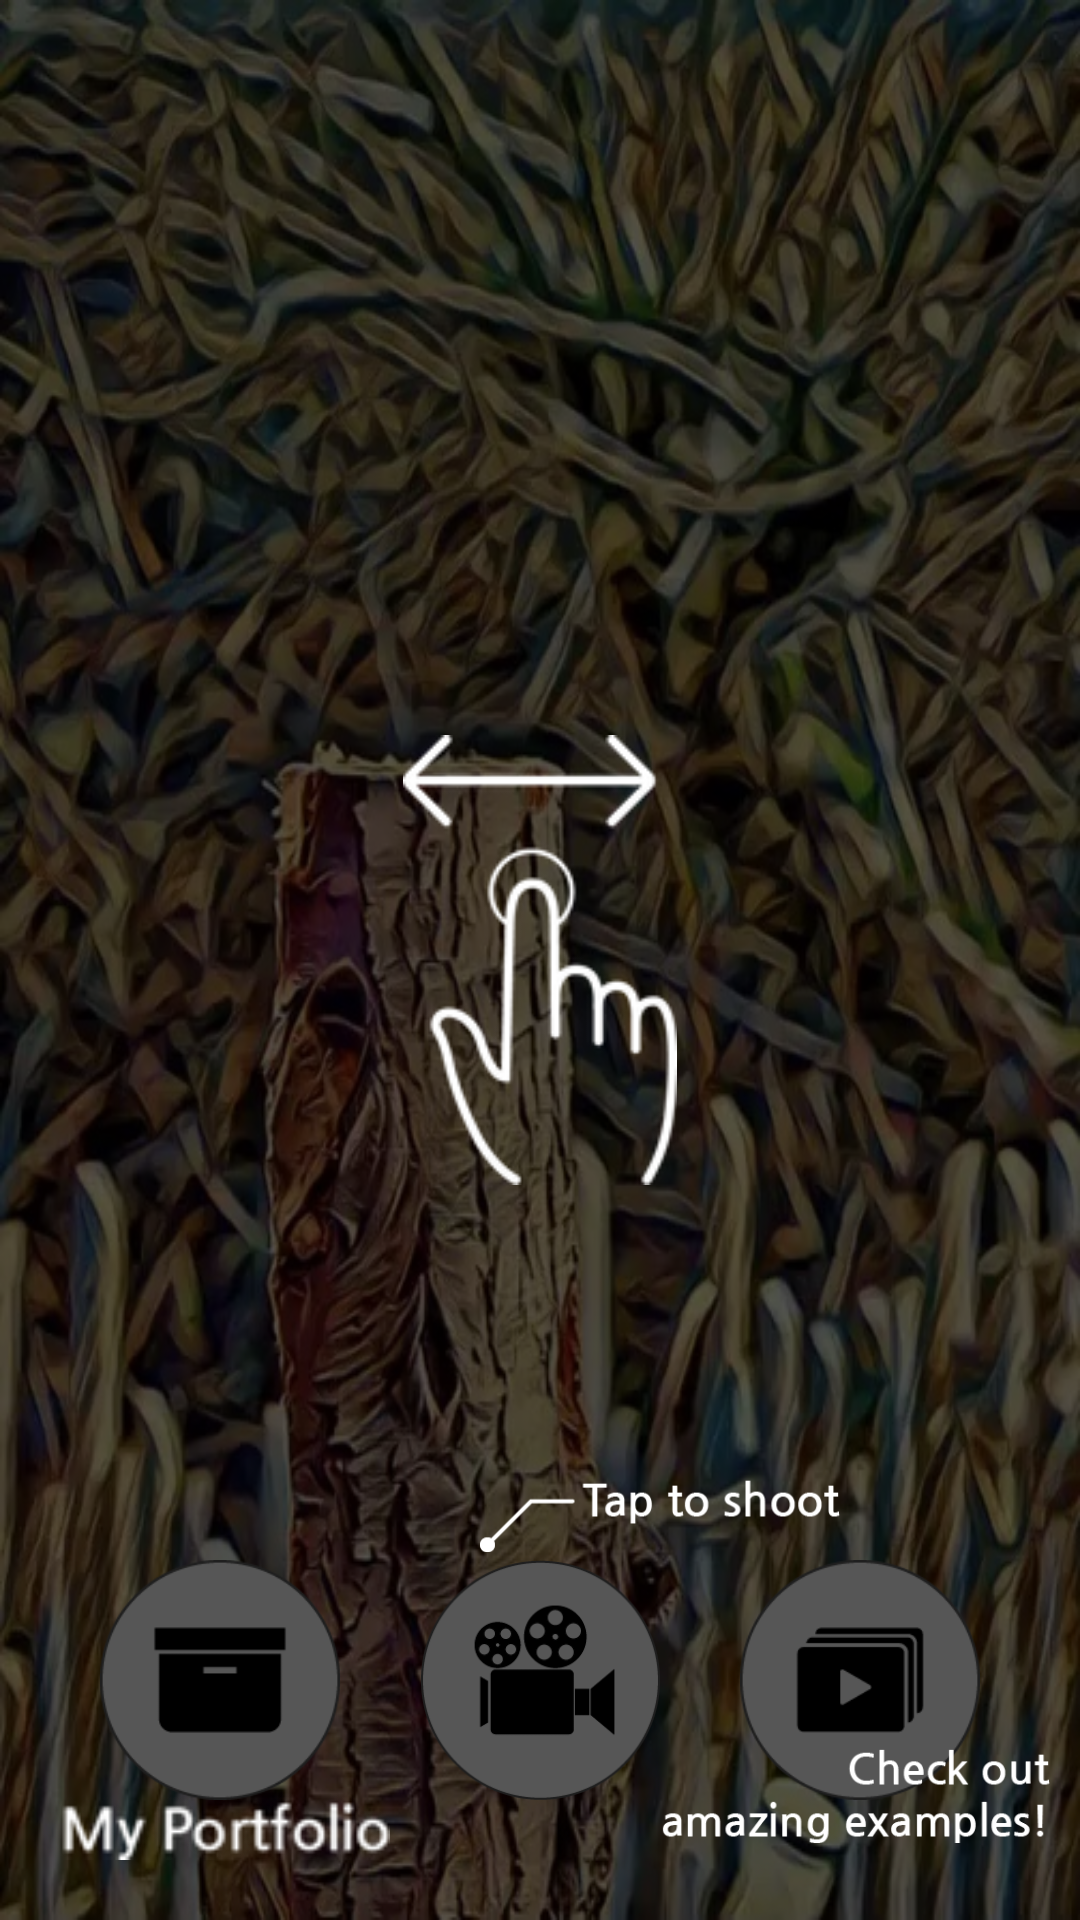

Where to tap for icons on this 1080w x 1920h app screen, as (x=x, y=y):
maincam: (x=540, y=1680)
mainexvideo: (x=860, y=1680)
